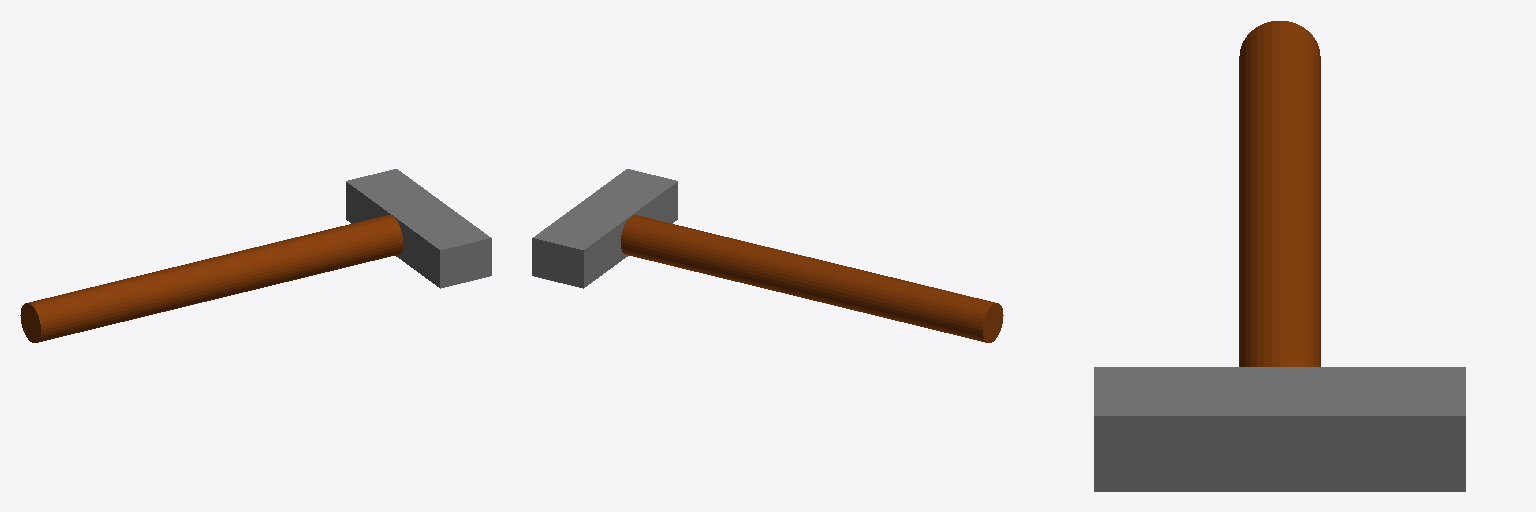
robot.urdf — handle_head:
<?xml version="1.0"?>
<robot name="handle_head">

  <link name="handle_head">
    <!-- Handle -->
    <visual>
              <origin xyz="0 0 0" rpy="0 -1.5707963267948966 0"/>
        <geometry>
          <cylinder length="0.21457023444911433" radius="0.010595572027206679"/>
        </geometry>
        
      <material name="brown">
        <color rgba="0.55 0.27 0.07 1.0"/>
      </material>
    </visual>
    <collision>
              <origin xyz="0 0 0" rpy="0 -1.5707963267948966 0"/>
        <geometry>
          <cylinder length="0.21457023444911433" radius="0.010595572027206679"/>
        </geometry>
        
    </collision>

    <!-- Head -->
    <visual>
              <origin xyz="0.12244267052950457 0 0" rpy="0 0 0"/>
        <geometry>
          <box size="0.0303151066098948 0.09729428697980917 0.021608538827889285"/>
        </geometry>
        
      <material name="gray">
        <color rgba="0.5 0.5 0.5 1.0"/>
      </material>
    </visual>
    <collision>
              <origin xyz="0.12244267052950457 0 0" rpy="0 0 0"/>
        <geometry>
          <box size="0.0303151066098948 0.09729428697980917 0.021608538827889285"/>
        </geometry>
        
    </collision>

    <inertial>
      <origin xyz="0.07236313126985039 0 0" rpy="0 0 0"/>
      <mass value="0.10148377261725292"/>
      <inertia ixx="5.194723365229309e-05" iyy="0.0005570152075825242" izz="0.0006019938351708373" ixy="0" ixz="0" iyz="0"/>
    </inertial>
  </link>

</robot>

--- Render facts (derived) ---
The picture shows the robot from 3 angles, left to right: view 1: azimuth 30°, elevation 25°; view 2: azimuth 150°, elevation 25°; view 3: azimuth 270°, elevation 25°; orthographic projection.
Model handle_head with 1 links and 0 joints (none), rooted at handle_head, posed all joints at 0.
Links seen in each view (by area): view 1: handle_head; view 2: handle_head; view 3: handle_head.
Boxes of the visible links, x1,y1,x2,y2 form: handle_head: (20,169,491,342); handle_head: (532,169,1003,342); handle_head: (1094,21,1465,491).
Bounding box of the posed robot: 0.2449 × 0.0973 × 0.0216 m (x, y, z).
Geometry: primitives only (box / cylinder / sphere), no mesh files.
